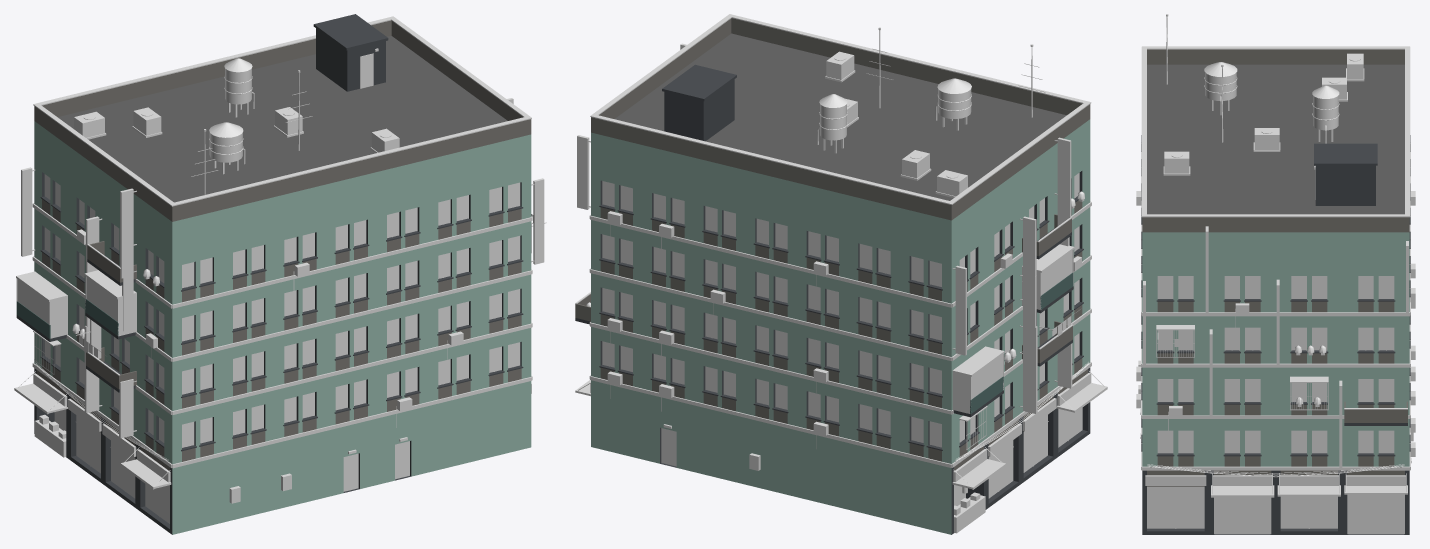
Rendered from Plaza_Block_15.fbx.
3 renders of one model, left to right at view 1: azimuth 30°, elevation 25°; view 2: azimuth 150°, elevation 25°; view 3: azimuth 270°, elevation 25°, orthographic. The views are drawn at different scales.
Parts seen in each view (by area): view 1: Plaza_Block_15_LOD0; view 2: Plaza_Block_15_LOD0; view 3: Plaza_Block_15_LOD0.
Part boxes in pixels (bbox=[...]): Plaza_Block_15_LOD0: bbox=[14, 14, 546, 534]; Plaza_Block_15_LOD0: bbox=[575, 14, 1107, 534]; Plaza_Block_15_LOD0: bbox=[1136, 14, 1415, 534].
Size of what is drawn, in the model's own units: 27.56 by 25.1 by 16.73.
